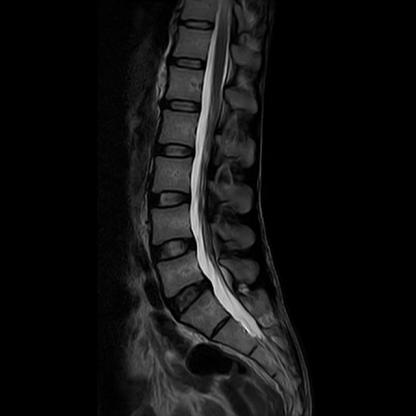Degenerative Disc Diseaserotation: (169, 285, 213, 309)
Disc Bulgerotation: (169, 285, 213, 310)
